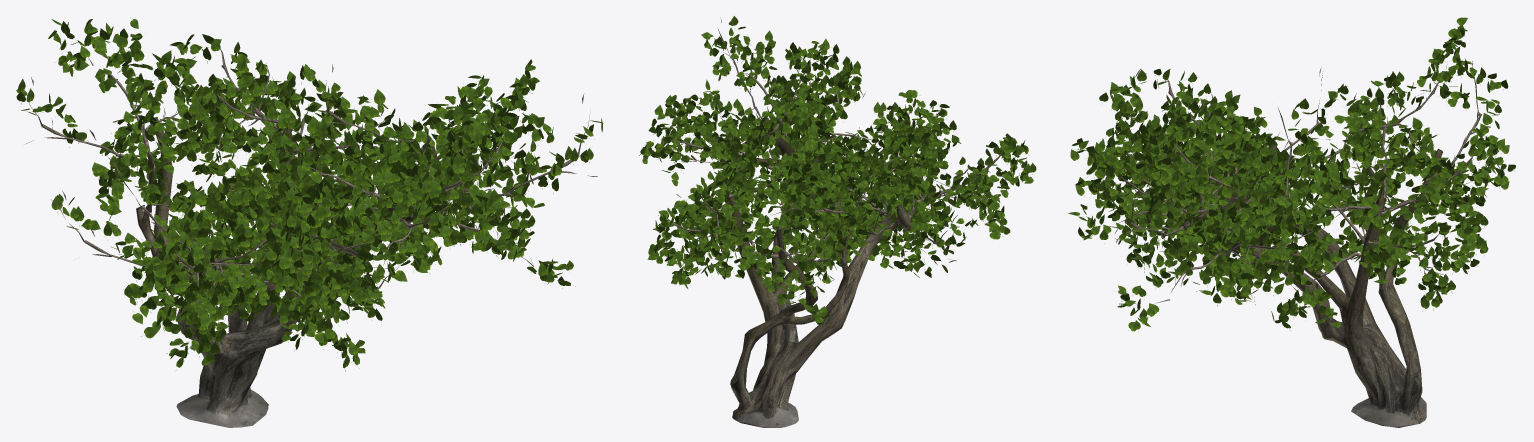
The model's file is model-ultra.gltf.
3 views of the same model, side by side, from view 1: azimuth 30°, elevation 25°; view 2: azimuth 150°, elevation 25°; view 3: azimuth 270°, elevation 25° (orthographic). The views are drawn at different scales.
Visible parts, largest first — view 1: island_tree_02-1, island_tree_02-0, island_tree_02-2; view 2: island_tree_02-1, island_tree_02-0, island_tree_02-2; view 3: island_tree_02-1, island_tree_02-0, island_tree_02-2.
Part boxes in pixels (bbox=[...]): island_tree_02-1: bbox=[16, 17, 603, 371]; island_tree_02-0: bbox=[136, 118, 469, 427]; island_tree_02-2: bbox=[21, 42, 597, 348]; island_tree_02-1: bbox=[639, 16, 1036, 326]; island_tree_02-0: bbox=[716, 120, 916, 427]; island_tree_02-2: bbox=[667, 17, 1022, 311]; island_tree_02-1: bbox=[1068, 17, 1515, 332]; island_tree_02-0: bbox=[1146, 145, 1442, 427]; island_tree_02-2: bbox=[1086, 61, 1500, 304].
Bounding box in the file's own units: 178 × 151 × 183.
3 materials, 3 textured.
